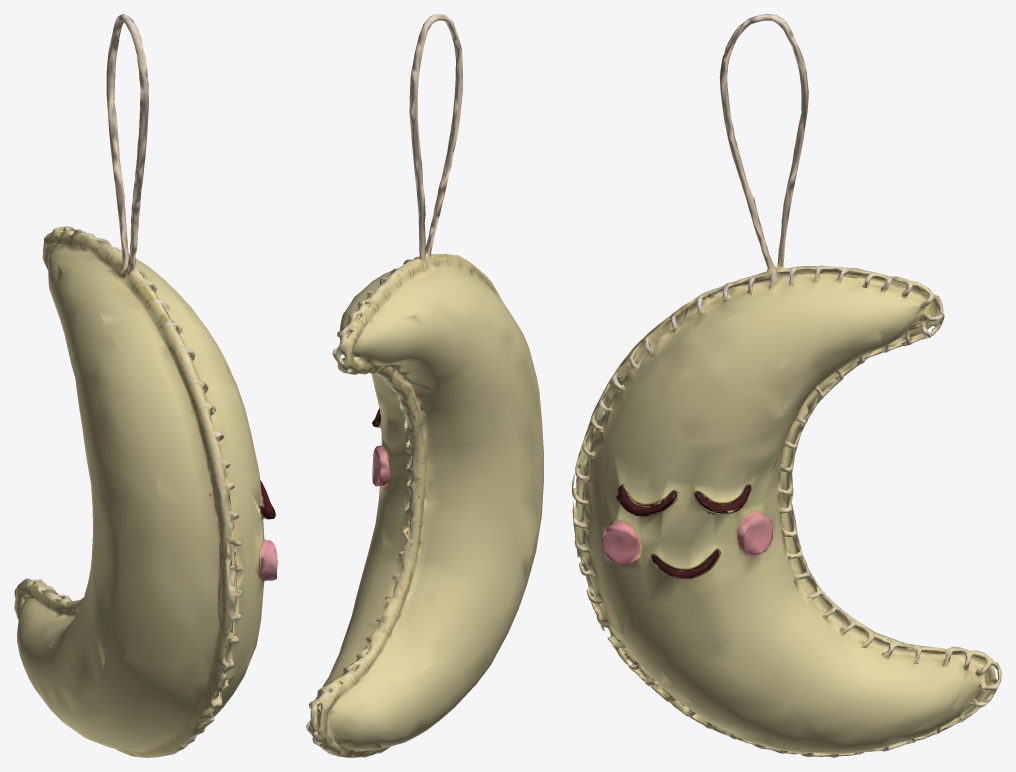
3 views of the same model, side by side, from view 1: azimuth 30°, elevation 25°; view 2: azimuth 150°, elevation 25°; view 3: azimuth 270°, elevation 25° (orthographic). The views are drawn at different scales.
Visible parts, largest first — view 1: repaired; view 2: repaired; view 3: repaired.
Boxes of the visible parts, box(x1,y1,x2,y2) form: repaired: box(14, 14, 277, 757); repaired: box(306, 14, 543, 757); repaired: box(572, 14, 1001, 757).
Size of the model in its own units: 0.216 by 0.9993 by 0.528.
1 material, 1 textured.
